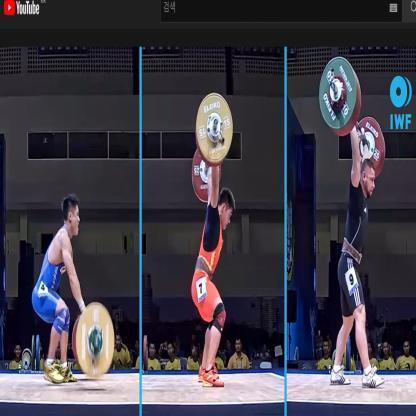barbell: (319, 56, 386, 174), (191, 92, 233, 202), (74, 300, 115, 376)
